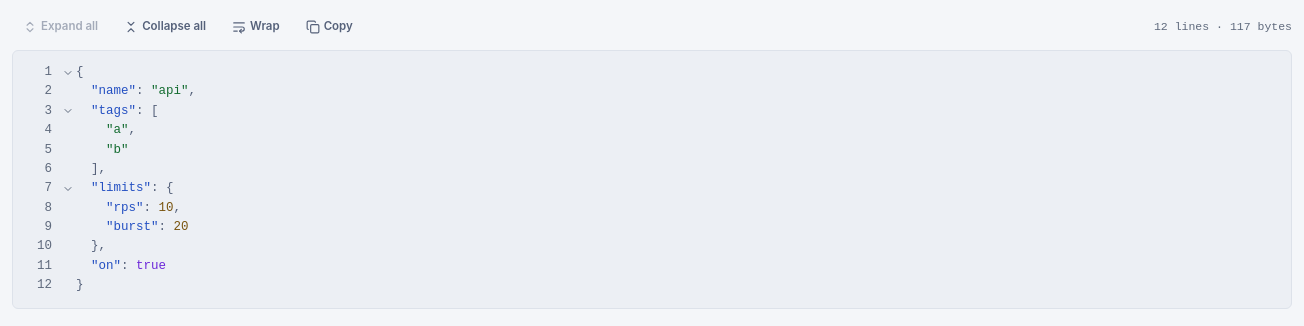
JsonView › expands and collapses everything from the toolbar
Expected: the 1st button named "Expand all" is disabled, [12,12,109,42]
What coordinates should you click on to do the following:
click the 2nd button named "Collapse all"
I would click on:
 (165, 27)
Its box is [113,12,217,42].
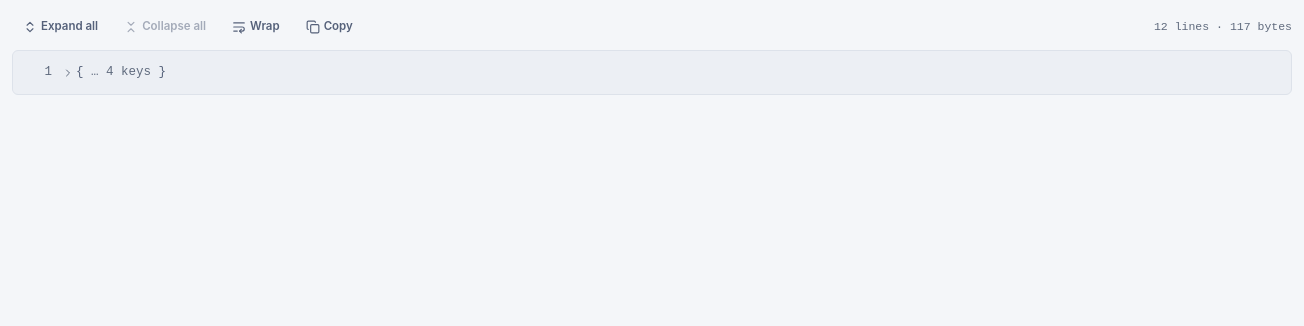
Expected: the number of elements with class "json-tree-line" is 1, [60,63,166,82]
Expected: the element with class "json-block" reads "{ … 4 keys }", [12,50,1292,95]
Expected: the 2nd button named "Collapse all" is disabled, [113,12,217,42]
What coordinates should you click on to do the following:
click the 1st button named "Expand all"
I would click on:
 (61, 27)
Its box is [12,12,109,42].
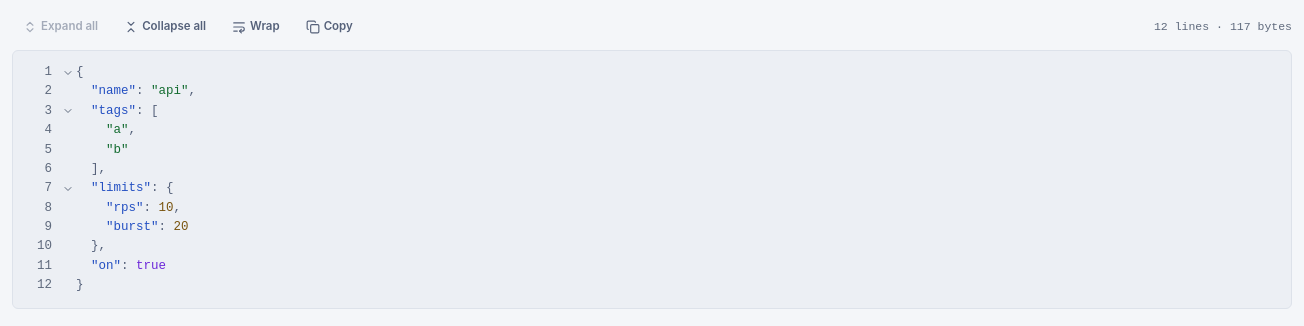
Expected: the number of elements with class "json-tree-line" is 12
Expected: the 1st button named "Expand all" is disabled, [12,12,109,42]
